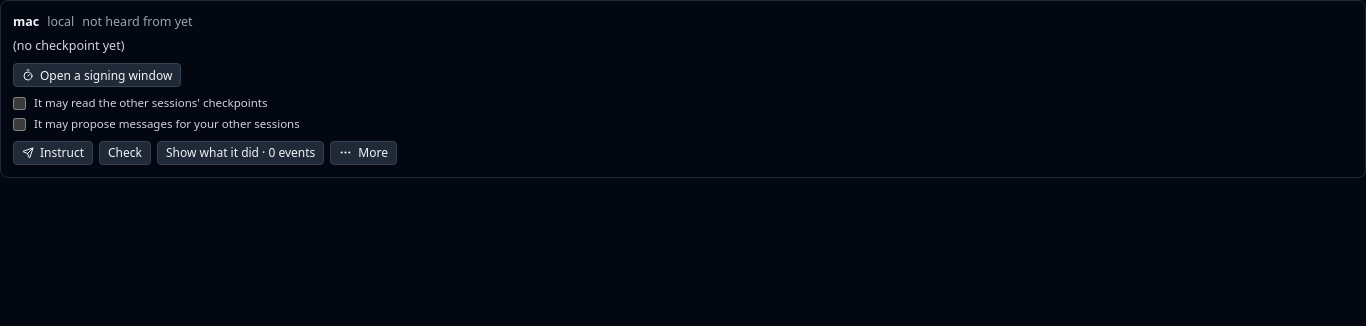
Test: the signing window on a link's card › clears the failure's words when another length is chosen, as choosing a length always has
Click the button "Open a signing window" at coordinates (97, 75), box [13,63,181,87]
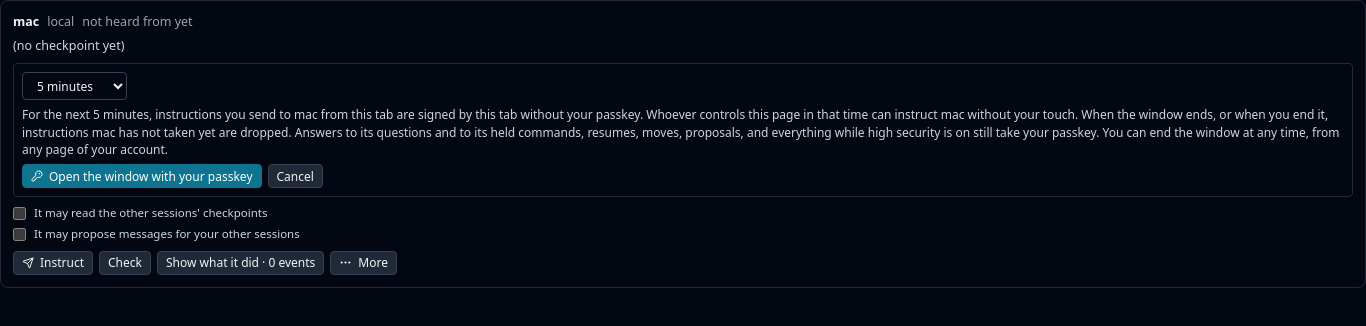
Check: the button "Open the window with your passkey" is enabled
Click the button "Open the window with your passkey" at coordinates (142, 176), box [22,164,262,188]
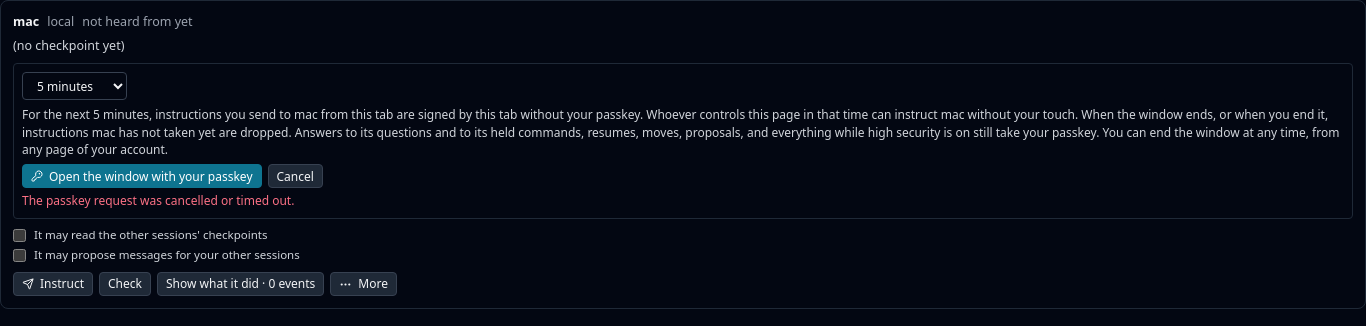
Check: the button "Open the window with your passkey" is enabled, box [22,164,262,188]
Check: the text "The passkey request was cancelled or timed out." is shown, box [22,192,294,209]
Select "15 minutes" in the dropdown named "Window length" at coordinates (74, 86), box [22,72,127,100]
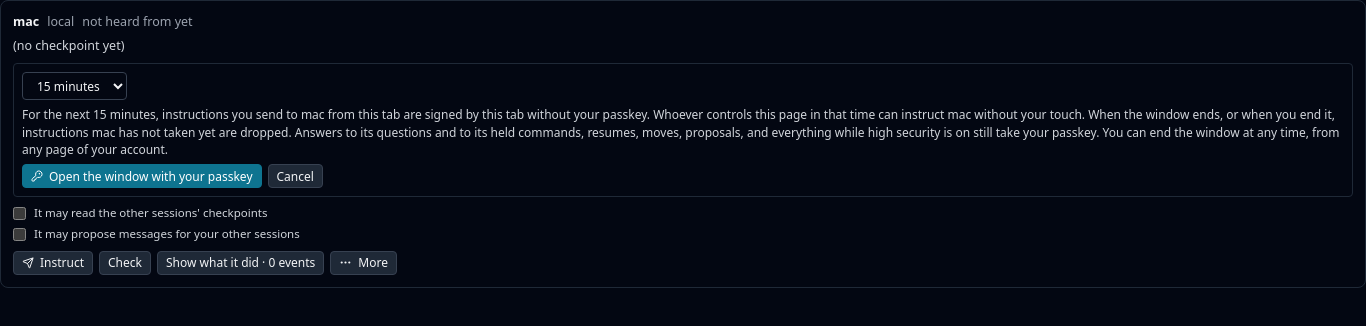
Check: the button "Open the window with your passkey" is enabled, box [22,164,262,188]
Check: the text "The passkey request was cancelled or timed out." is gone
